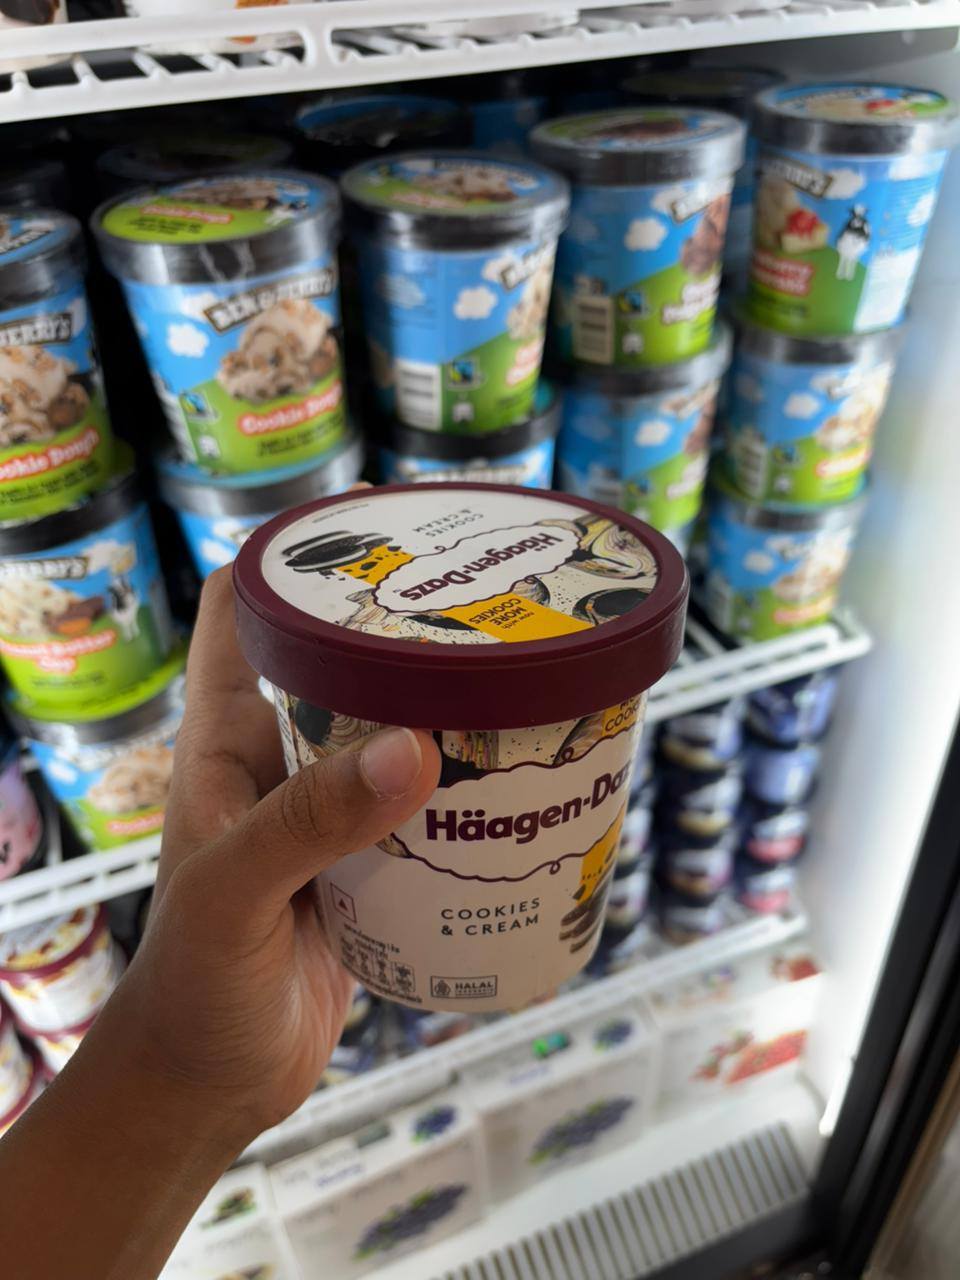Haagen-Dazs IceCream Tub: (182, 473, 696, 1031)
